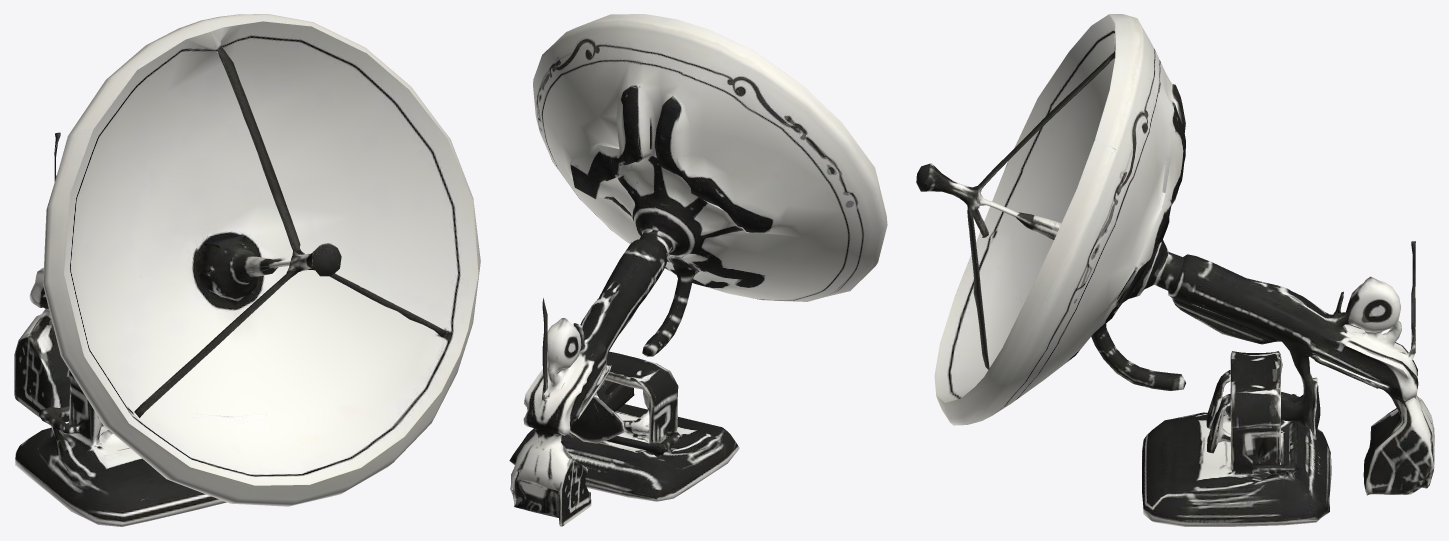
Rendered from RadaDish.min.glb.
The picture shows the model from 3 angles, left to right: view 1: azimuth 30°, elevation 25°; view 2: azimuth 150°, elevation 25°; view 3: azimuth 270°, elevation 25°; orthographic projection. The views are drawn at different scales.
Size of the model in its own units: 1.62 by 1.8 by 1.89.
1 material, 1 textured.
